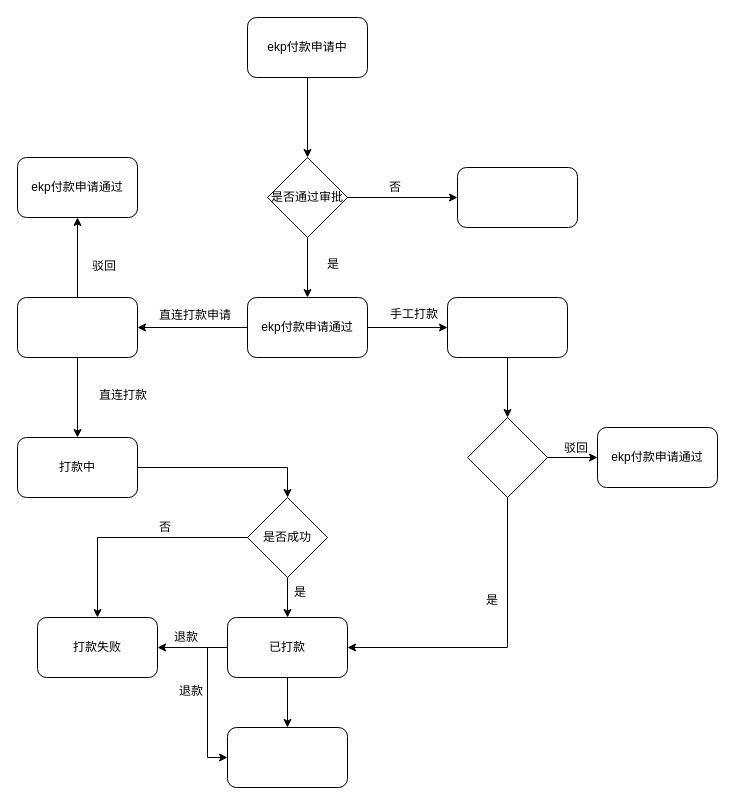
The diagram is 735 pixels wide and 805 high, and some of its shapes have lost their labels. The centre of each missing label's shape, as x and y in pixels:
已废弃: pixel 517 197
已申请待打款: pixel 77 327
手工打款待审核: pixel 507 327
是否通过: pixel 507 457
根据条件更新成本项状态并同步NS: pixel 287 757
